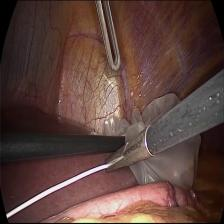Grasper: (102, 131, 154, 174), (95, 0, 124, 74)
Specimen Bag: (104, 90, 204, 198)
